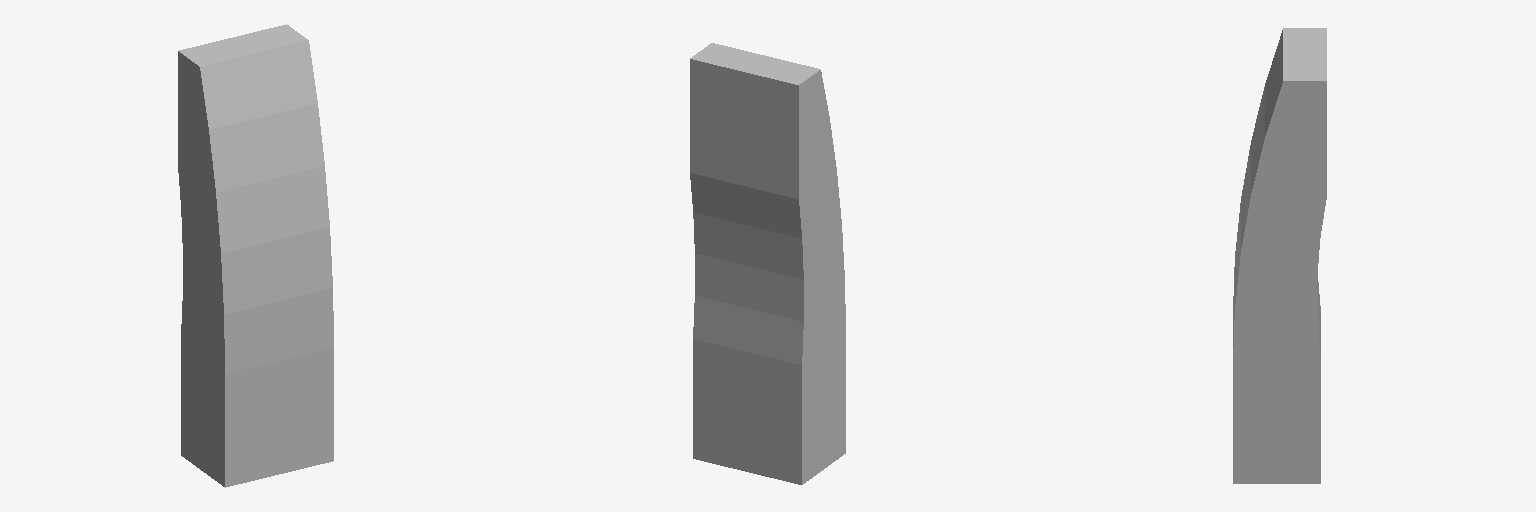
Rendered from zhitao.obj.
The picture shows the model from 3 angles: view 1: azimuth 30°, elevation 25°; view 2: azimuth 150°, elevation 25°; view 3: azimuth 270°, elevation 25°; orthographic projection.
Parts seen in each view (by area): view 1: default; view 2: default; view 3: default.
Boxes of the visible parts, x1=… form: default: x1=178, y1=24, x2=333, y2=487; default: x1=690, y1=43, x2=845, y2=484; default: x1=1233, y1=28, x2=1326, y2=483.
Bounding box in the file's own units: 10 × 35.26 × 7.5.